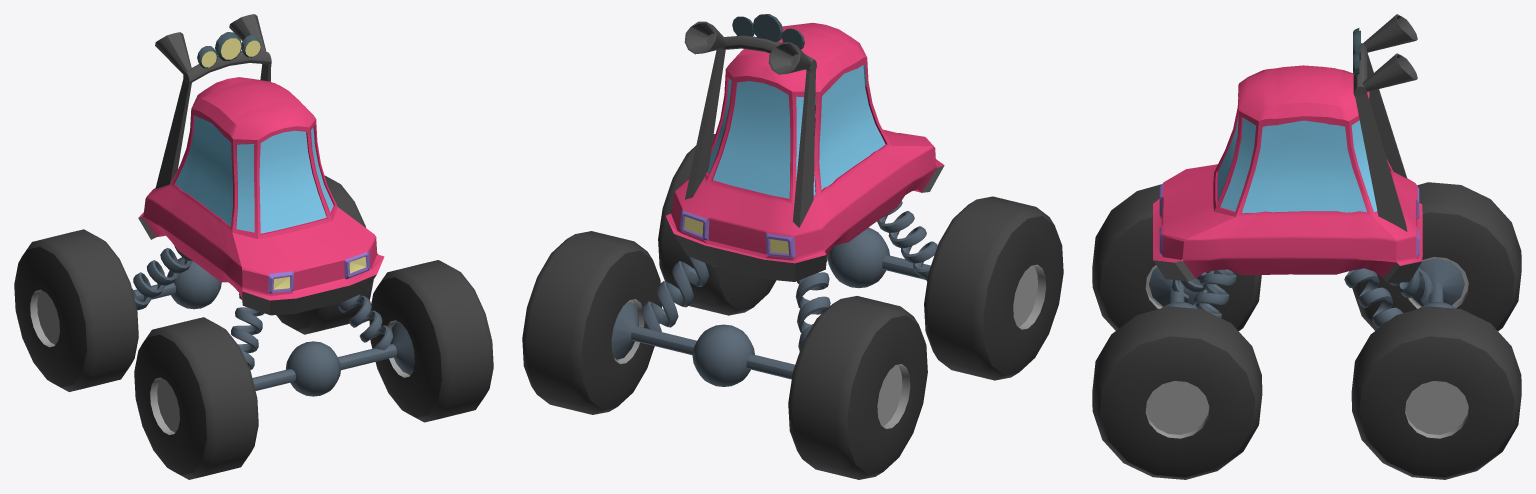
File: monster_truck 1.fbx
3 views of the same model, side by side, from view 1: azimuth 30°, elevation 25°; view 2: azimuth 150°, elevation 25°; view 3: azimuth 270°, elevation 25° (orthographic). The views are drawn at different scales.
Parts seen in each view (by area): view 1: monster_truck; view 2: monster_truck; view 3: monster_truck.
Part boxes in pixels (left/top/right/bottom): monster_truck: left=14, top=14, right=493, bottom=479; monster_truck: left=522, top=14, right=1063, bottom=479; monster_truck: left=1092, top=14, right=1521, bottom=479.
Bounding box in the file's own units: 39.34 × 43.7 × 45.3.
